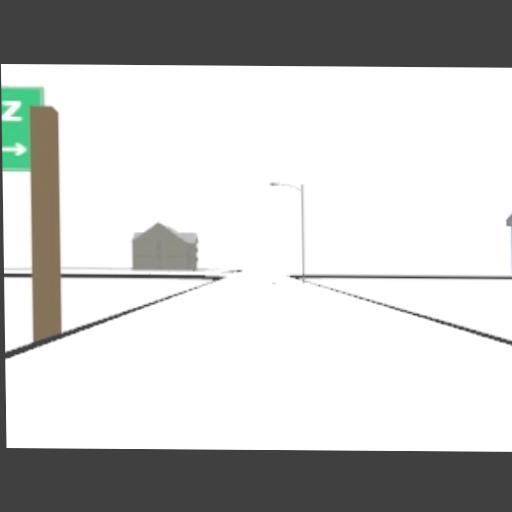Right: (2, 142, 28, 156)
Z: (2, 98, 23, 121)
